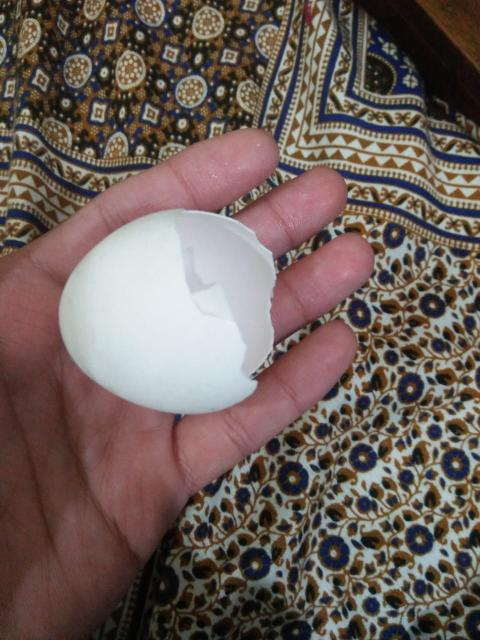Roto: (57, 207, 278, 416)
